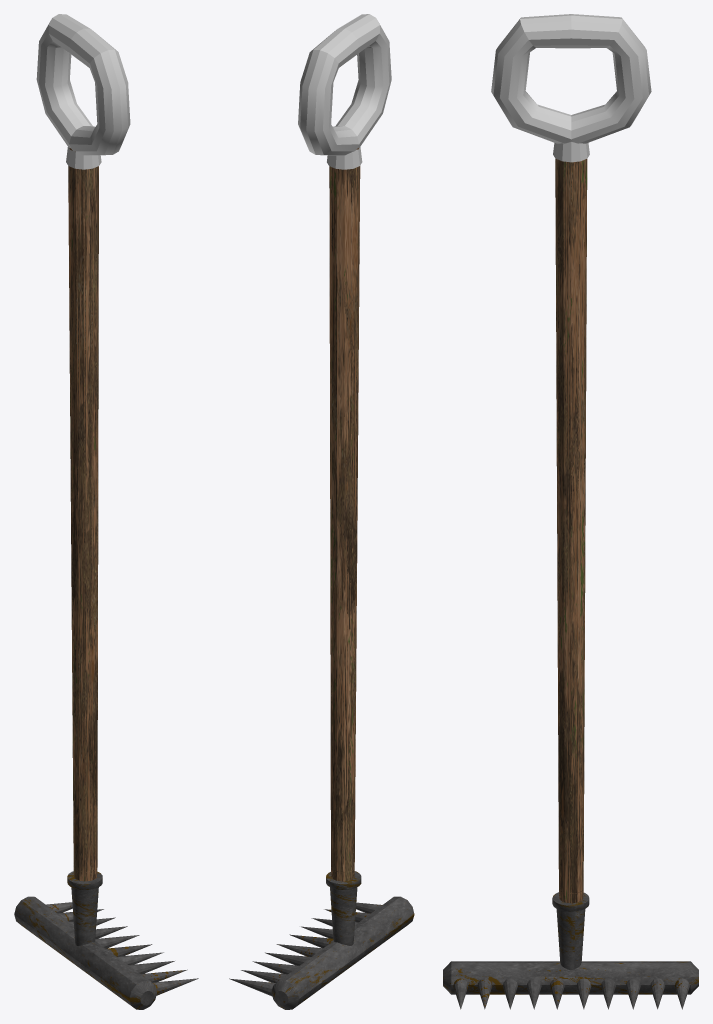
The model's file is m_rake.fbx.
3 renders of one model, left to right at view 1: azimuth 30°, elevation 25°; view 2: azimuth 150°, elevation 25°; view 3: azimuth 270°, elevation 25°, orthographic. The views are drawn at different scales.
Visible parts, largest first — view 1: rake; view 2: rake; view 3: rake.
Part boxes in pixels (x1,y1,x2,y2): rake: (14, 14, 198, 1009); rake: (229, 14, 414, 1009); rake: (443, 14, 698, 1009).
Size of the model in its own units: 23.86 by 274 by 65.04.
